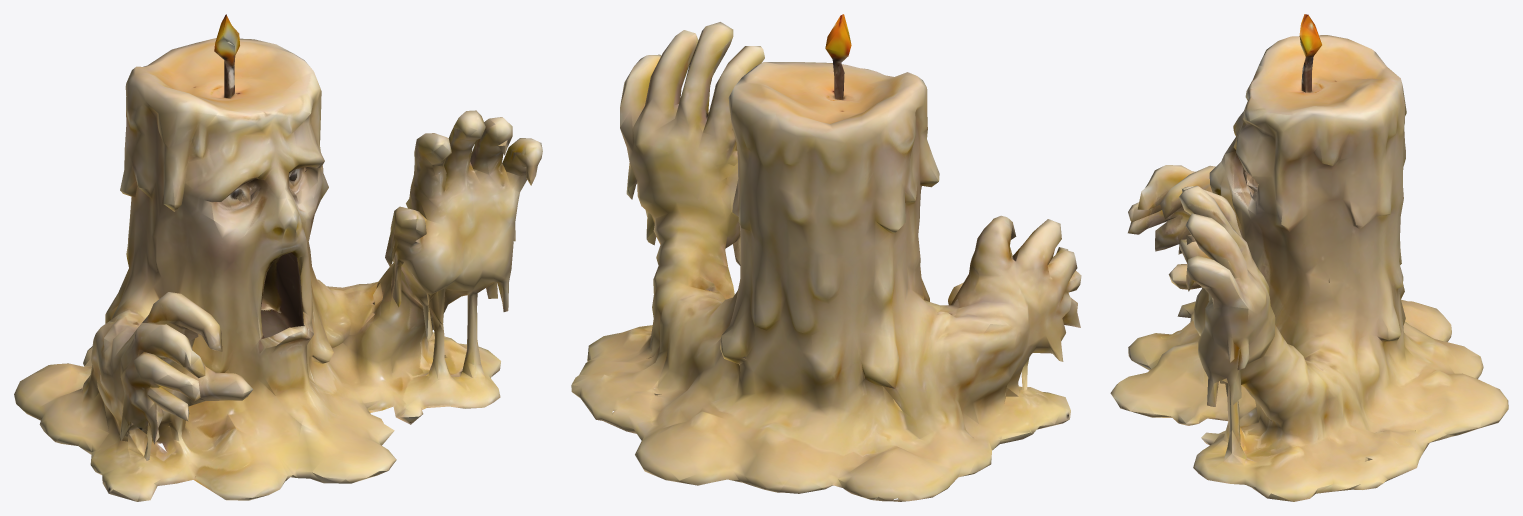
Rendered from monster_6.glb.
3 views of the same model, side by side, from view 1: azimuth 30°, elevation 25°; view 2: azimuth 150°, elevation 25°; view 3: azimuth 270°, elevation 25° (orthographic). The views are drawn at different scales.
Visible parts, largest first — view 1: Candle_Creep_Monster_0709090615_texture; view 2: Candle_Creep_Monster_0709090615_texture; view 3: Candle_Creep_Monster_0709090615_texture.
Part boxes in pixels (left/top/right/bottom): Candle_Creep_Monster_0709090615_texture: left=14, top=14, right=542, bottom=501; Candle_Creep_Monster_0709090615_texture: left=571, top=14, right=1081, bottom=501; Candle_Creep_Monster_0709090615_texture: left=1110, top=14, right=1508, bottom=501.
Size of the model in its own units: 2.01 by 1.8 by 1.75.
Materials: 1 (1 with a texture image).
